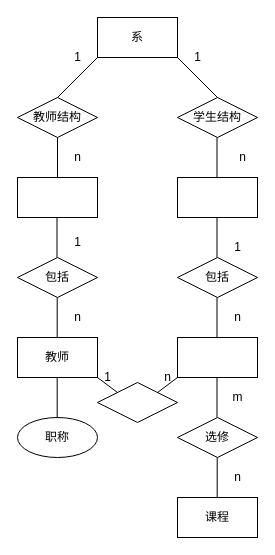
This 275x555 diagram has some shape labels left out. Here are the shapes that lost their labels. From the top down, the centre of each, then its label:
the point at 57,197: 教研室
the point at 217,197: 班级
the point at 217,357: 学生
the point at 137,402: 指导
